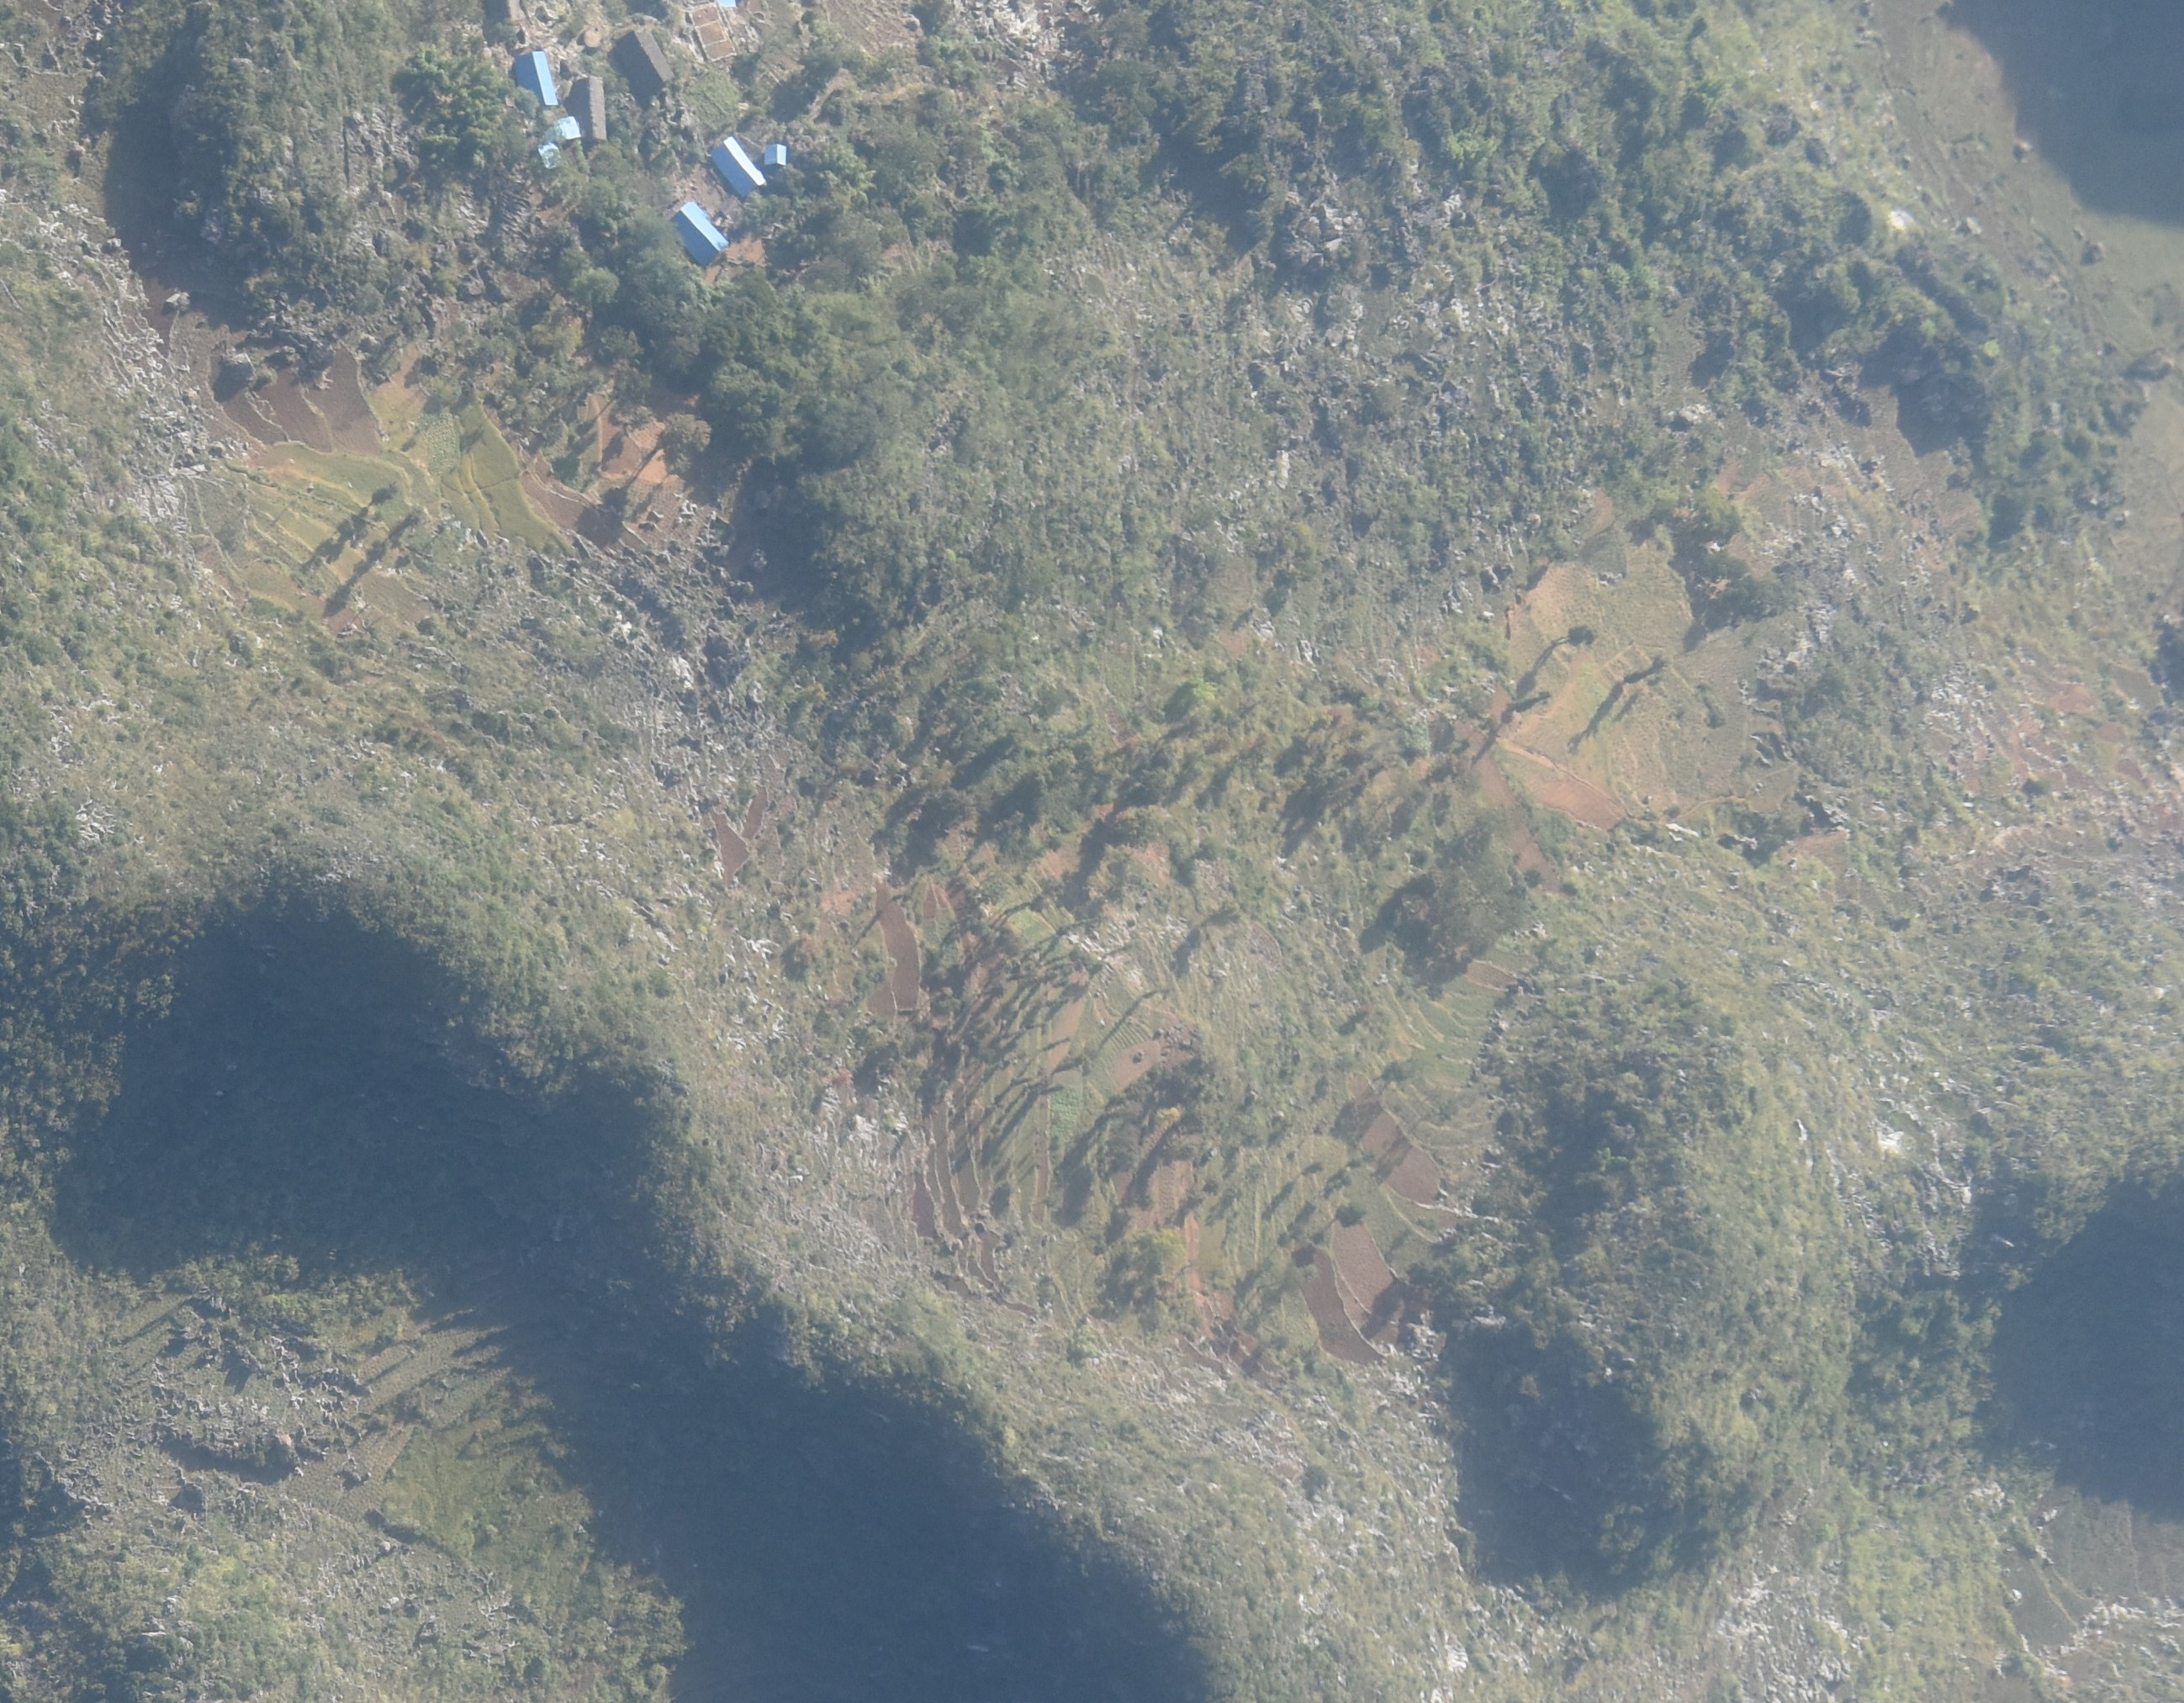building: (617, 30, 674, 89), (574, 76, 606, 142)
prefabricated-house: (670, 202, 729, 266), (709, 135, 764, 197), (516, 50, 553, 106), (542, 115, 581, 142), (539, 138, 560, 170), (766, 140, 787, 167)
well: (585, 27, 603, 48)
